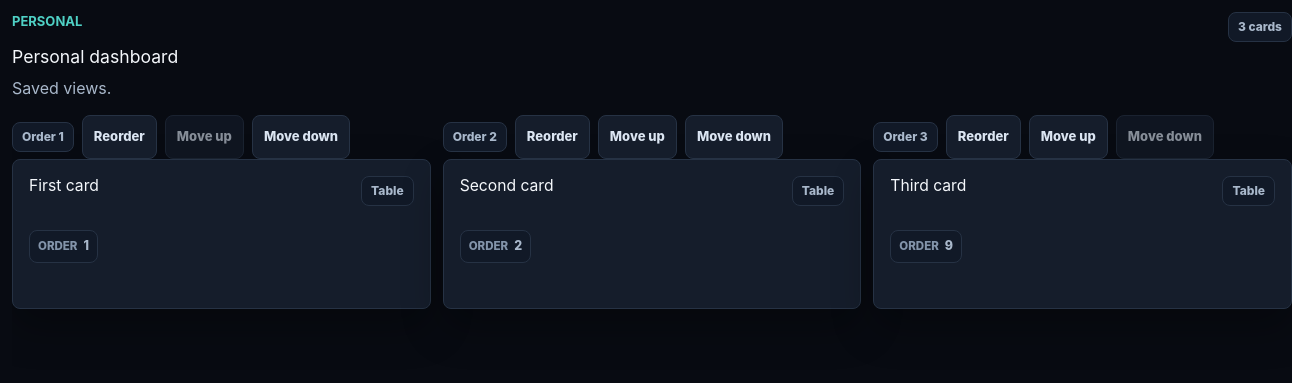
Scenario: DashboardCardGrid ordering › restores the prior order after a generic save failure
Click the button with aria-label "Move Second card up".
click(637, 137)  # box left=598, top=115, right=677, bottom=159
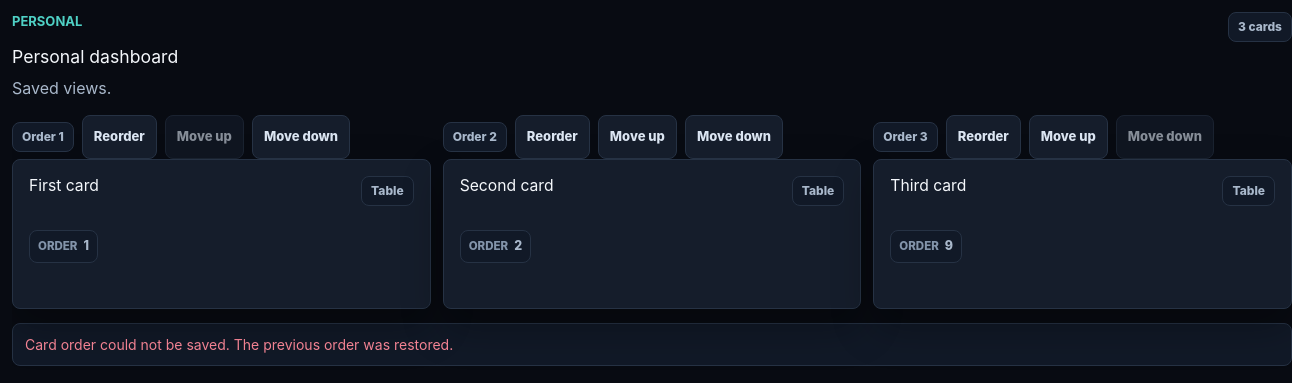
Check: the message reads "Card order could not be saved. The previous order was restored.", box left=25, top=336, right=453, bottom=353
